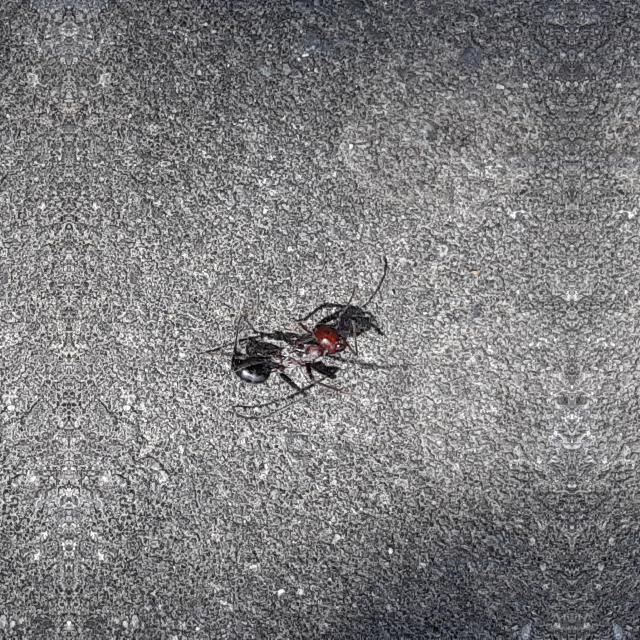Cataglyphis: (222, 304, 362, 414)
